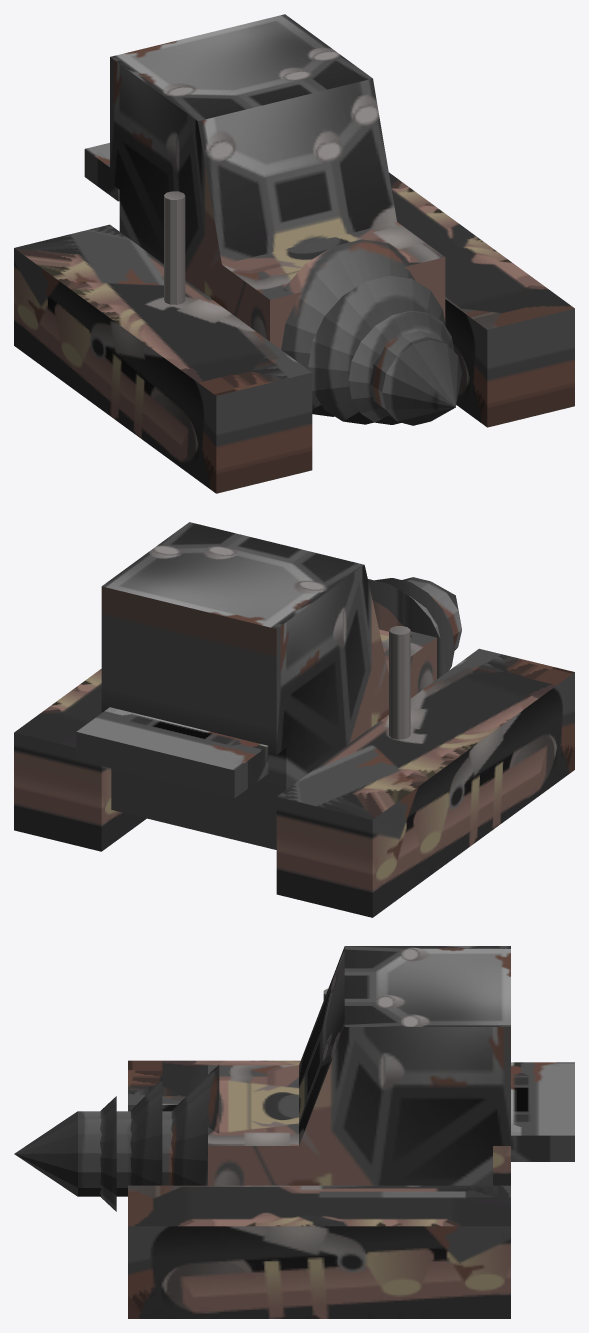
Rendered from Building_AncientExcavator.obj.
3 views of the same model, one above another, from view 1: azimuth 30°, elevation 25°; view 2: azimuth 150°, elevation 25°; view 3: azimuth 270°, elevation 25° (orthographic). The views are drawn at different scales.
Visible parts, largest first — view 1: Body; view 2: Body; view 3: Body.
Boxes of the visible parts, x1,y1,x2,y2 form: Body: [14, 14, 574, 493]; Body: [14, 522, 574, 917]; Body: [14, 946, 574, 1318].
Bounding box in the file's own units: 2.69 × 1.9 × 3.84.
Materials: 1 (1 with a texture image).
